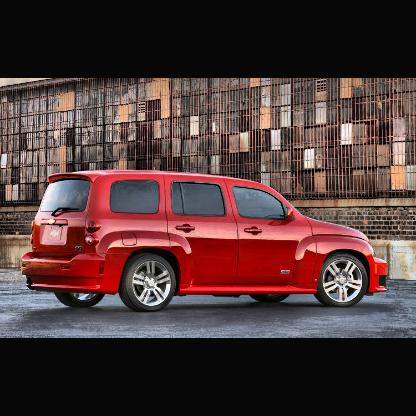Chevrolet HHR SS 2010: (20, 168, 391, 315)
